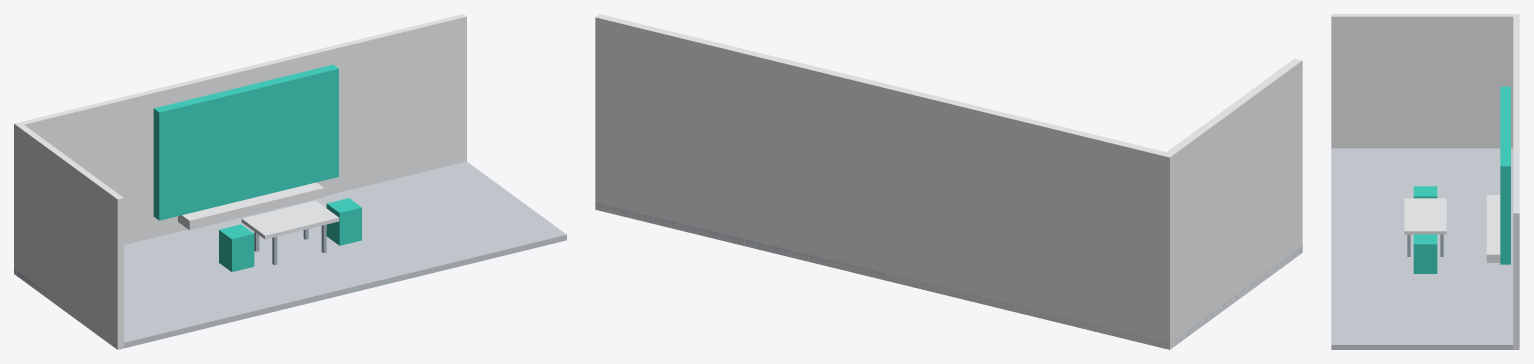
3 views of the same model, side by side, from view 1: azimuth 30°, elevation 25°; view 2: azimuth 150°, elevation 25°; view 3: azimuth 270°, elevation 25° (orthographic). The views are drawn at different scales.
Parts seen in each view (by area): view 1: Exhibition Booth Concept; view 2: Exhibition Booth Concept; view 3: Exhibition Booth Concept.
Part boxes in pixels (x1,y1,x2,y2): Exhibition Booth Concept: [14, 14, 566, 349]; Exhibition Booth Concept: [595, 14, 1302, 349]; Exhibition Booth Concept: [1331, 14, 1519, 349].
Bounding box in the file's own units: 10 × 3.2 × 4.
